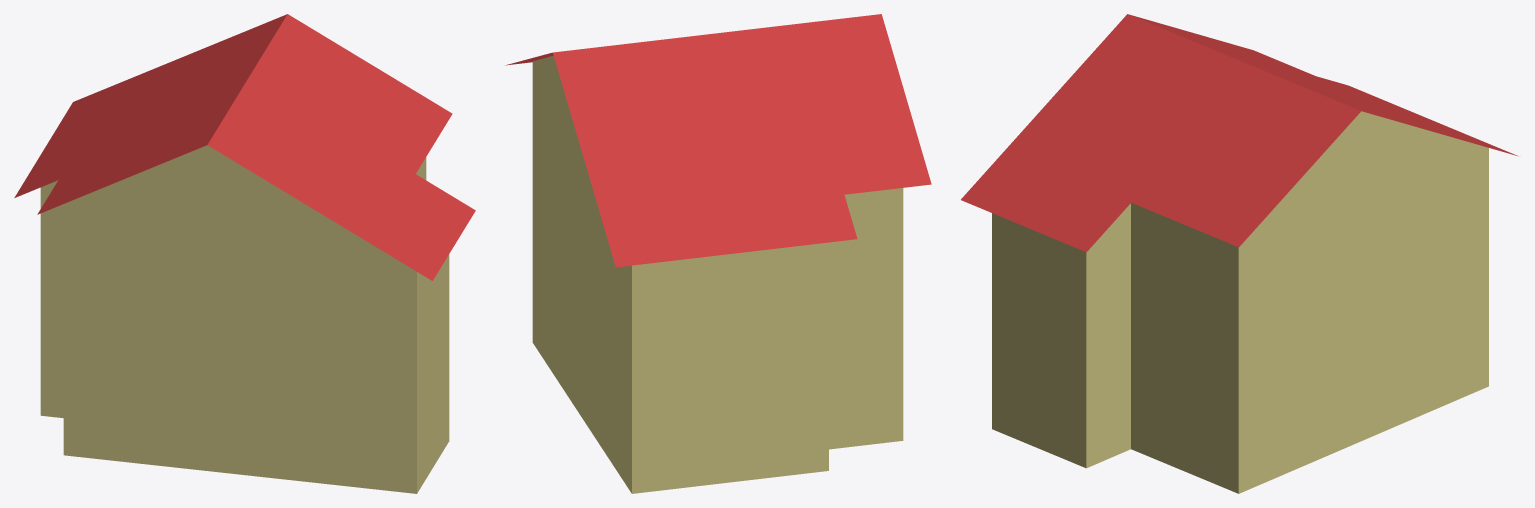
The picture shows the model from 3 angles, left to right: view 1: azimuth 30°, elevation 25°; view 2: azimuth 150°, elevation 25°; view 3: azimuth 270°, elevation 25°; orthographic projection. The views are drawn at different scales.
Visible parts, largest first — view 1: group_5, group_3, group_4; view 2: group_5, group_3, group_4; view 3: group_5, group_3, group_4.
Boxes of the visible parts, x1,y1,x2,y2 form: group_5: [40, 145, 449, 493]; group_3: [14, 14, 448, 259]; group_4: [61, 14, 475, 280]; group_5: [532, 55, 903, 493]; group_3: [506, 14, 931, 267]; group_4: [553, 50, 925, 266]; group_5: [992, 111, 1488, 493]; group_3: [992, 14, 1518, 228]; group_4: [961, 14, 1430, 252].
Bounding box in the file's own units: 16.26 × 18.86 × 12.76.
